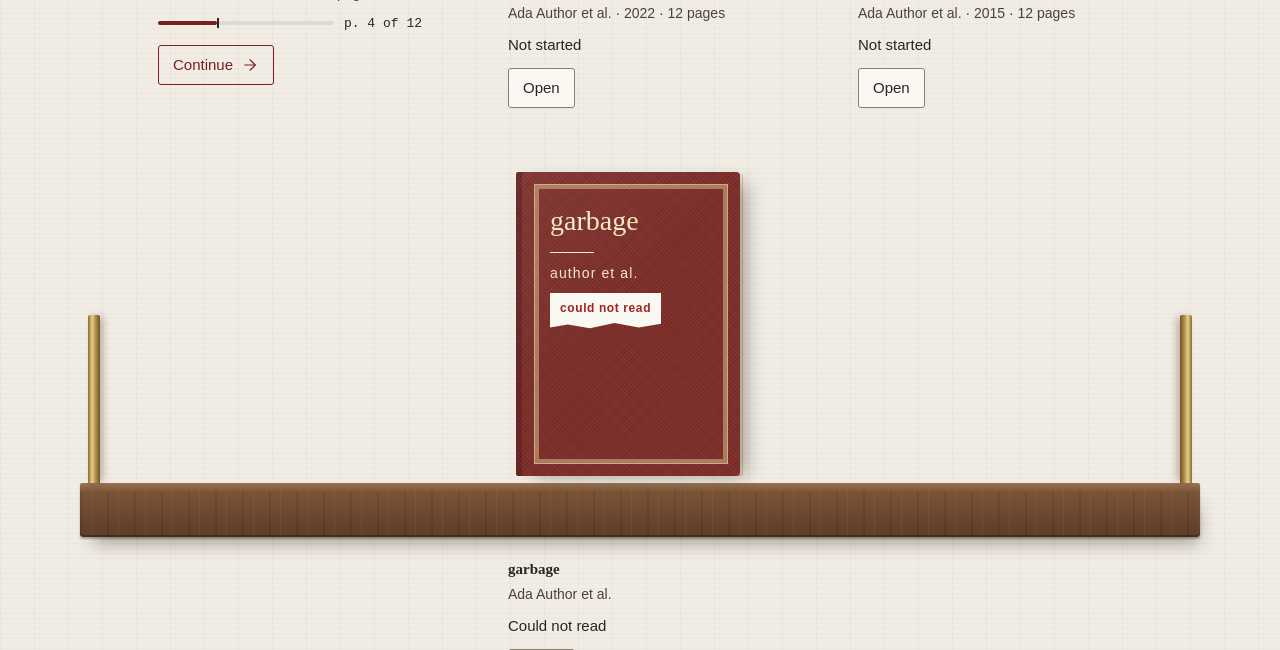
Test: the catalogue card › a failed paper offers Retry, and Delete is danger, confirmed inline
This screenshot has width=1280, height=650.
(page scrolled)
Click the button "garbage Author et al. could not read" at (628, 324), box [516,172,740,476]
(page scrolled)
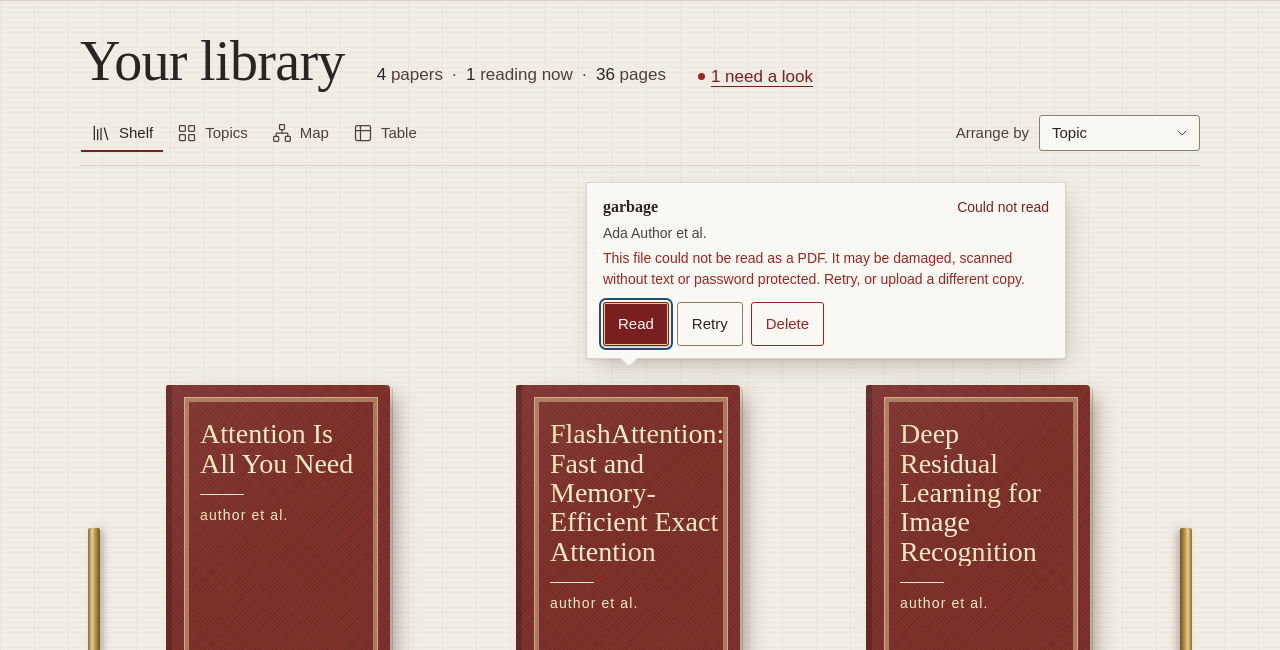
Click the button named "Retry reading garbage" at (710, 324), box [677,302,743,346]
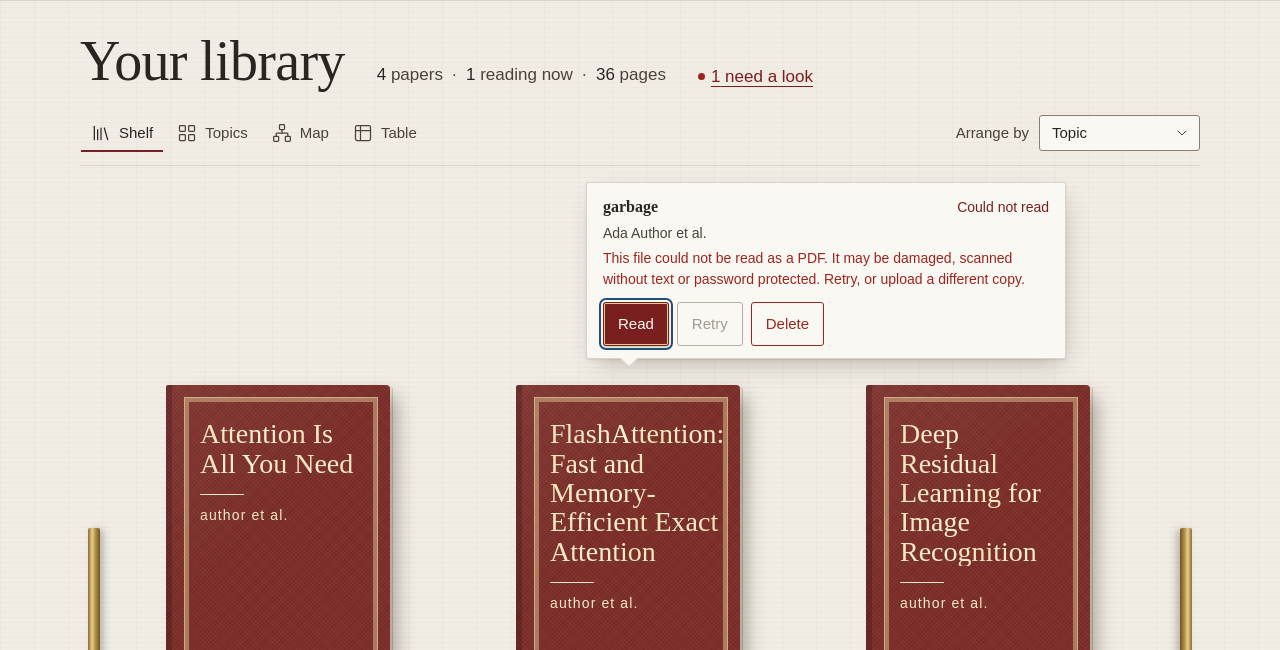
Click the button with aria-label "Delete garbage" at (787, 324), box [751,302,824,346]
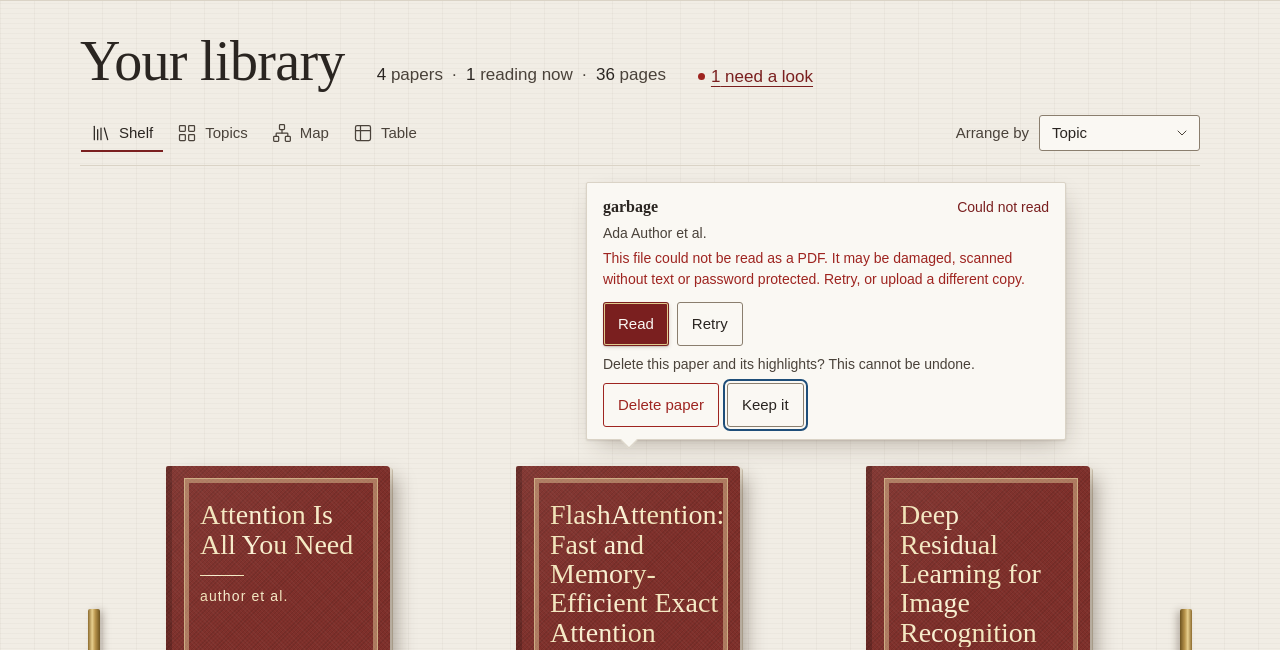
Expected: the element named "Confirm deleting garbage" is shown, [603,356,975,427]
